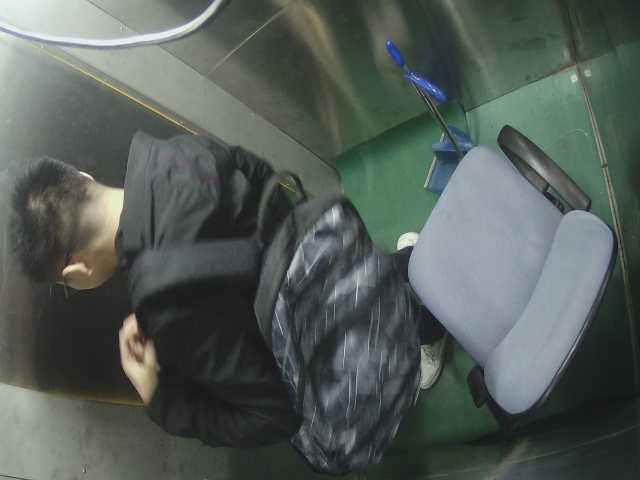bag: (257, 177, 433, 463)
broom: (373, 33, 479, 191)
chair: (391, 118, 619, 423)
person: (7, 144, 295, 448)
